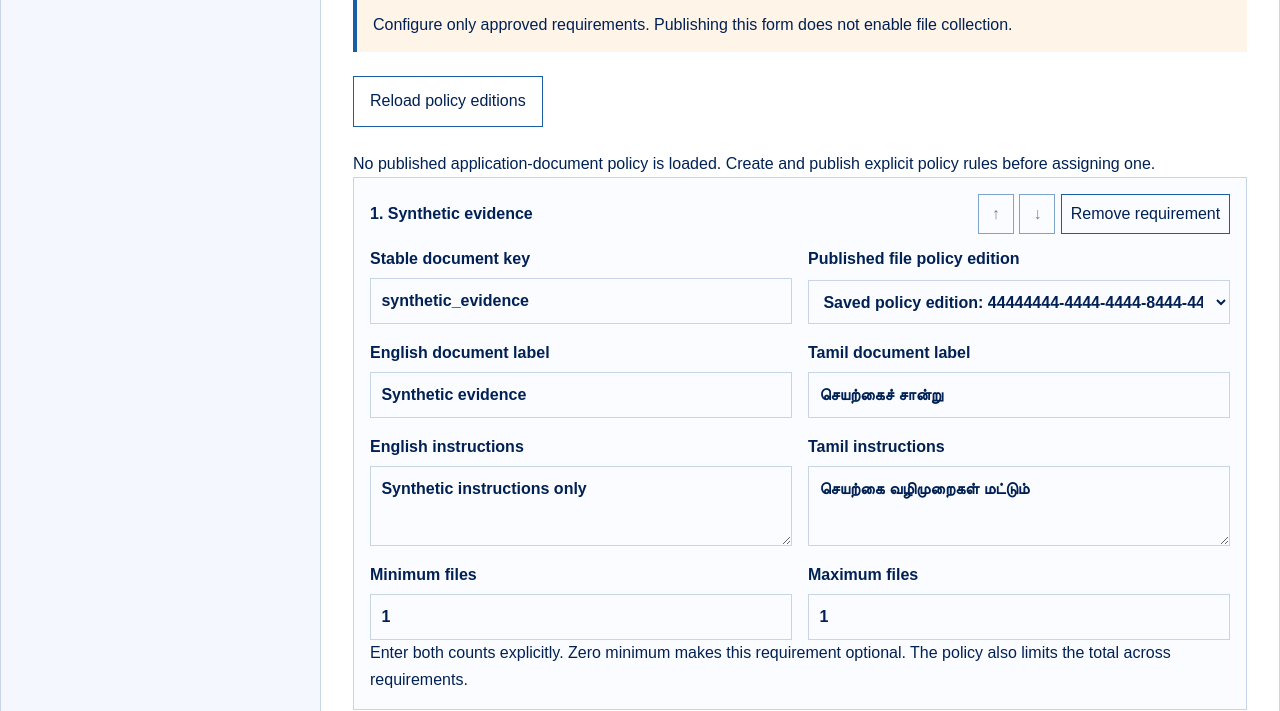
it: application definition requirements and recovery › preserves bilingual requirements through a conflict and requires saved-revision review
(page scrolled)
Replace the text in the field labelled "English document label" with "Retained local document label" at (581, 395), box x1=370 y1=372 x2=792 y2=418
(page scrolled)
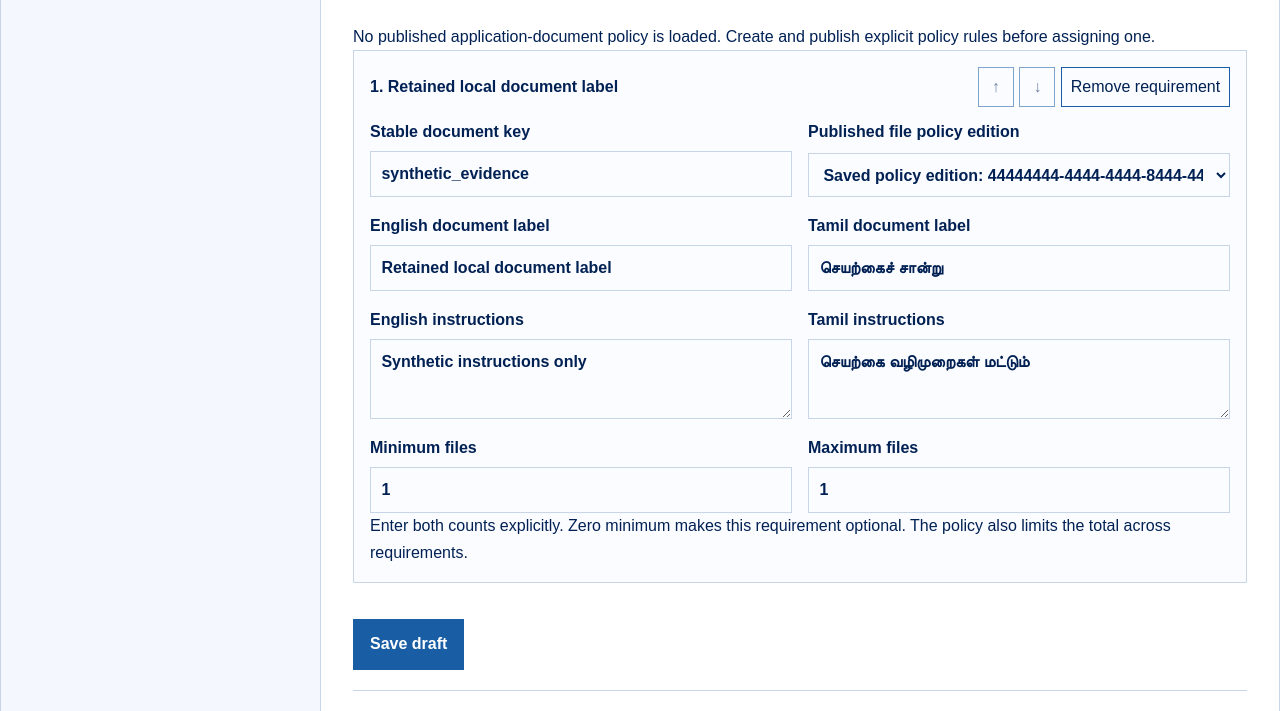
Click the button "Save draft".
click(409, 645)  # box x1=353 y1=619 x2=464 y2=670
(page scrolled)
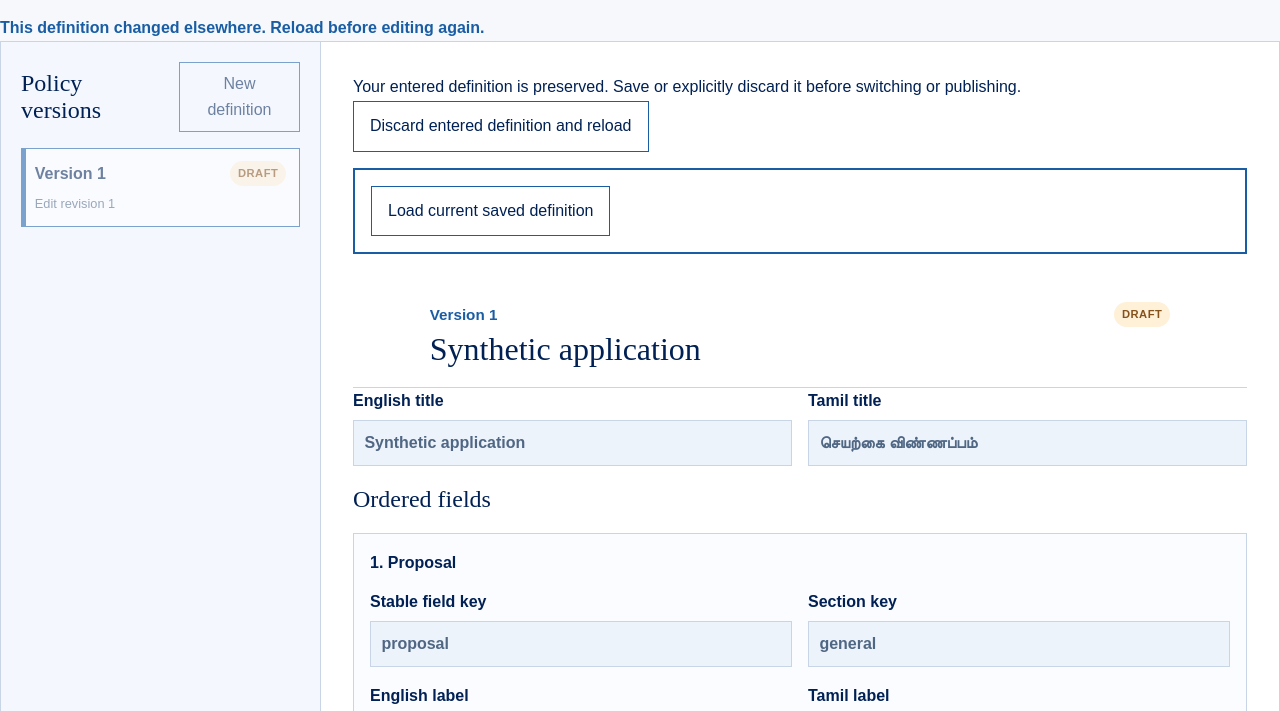
Expected: the text "This definition changed elsewhere. Reload before editing again." is shown, x1=0 y1=19 x2=484 y2=36
Click the button "Load current saved definition".
click(491, 211)  # box x1=371 y1=186 x2=610 y2=236
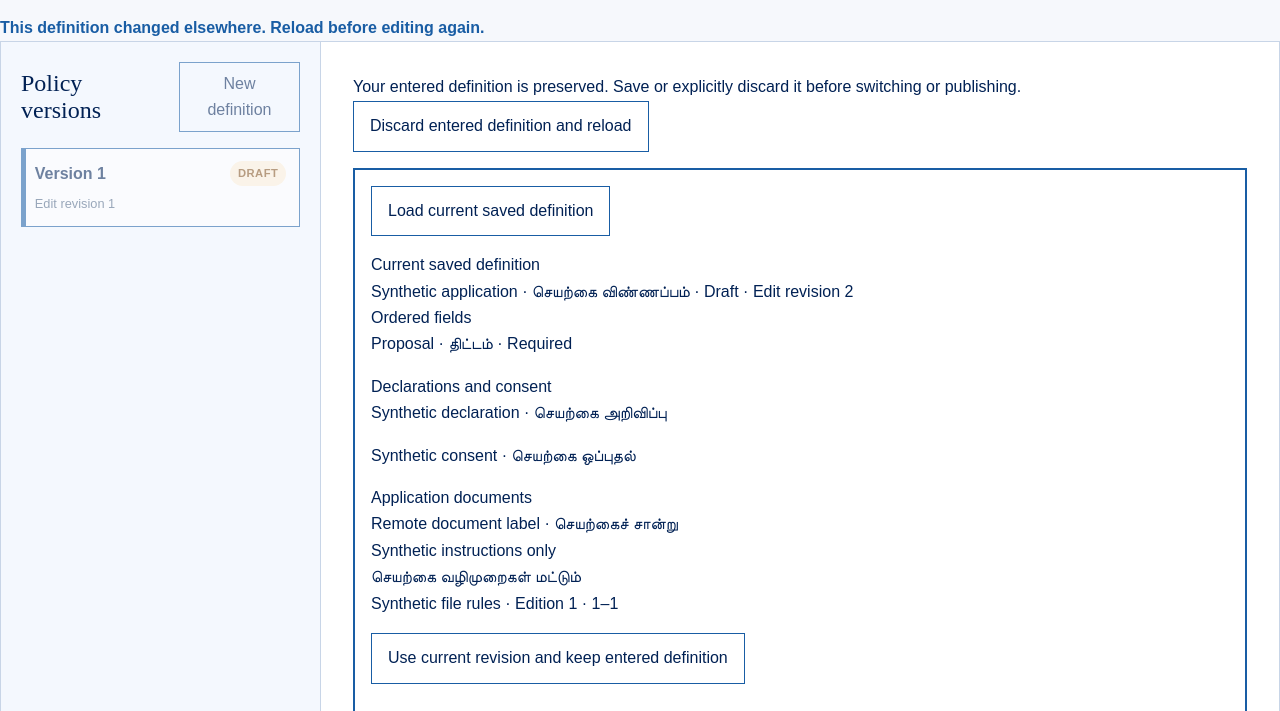
Expected: the heading "Current saved definition" is shown, x1=371 y1=256 x2=540 y2=273
Expected: the list item "Remote document label" is shown, x1=371 y1=515 x2=540 y2=532
Click the button "Use current revision and keep entered definition".
click(558, 658)  # box x1=371 y1=633 x2=745 y2=684
(page scrolled)
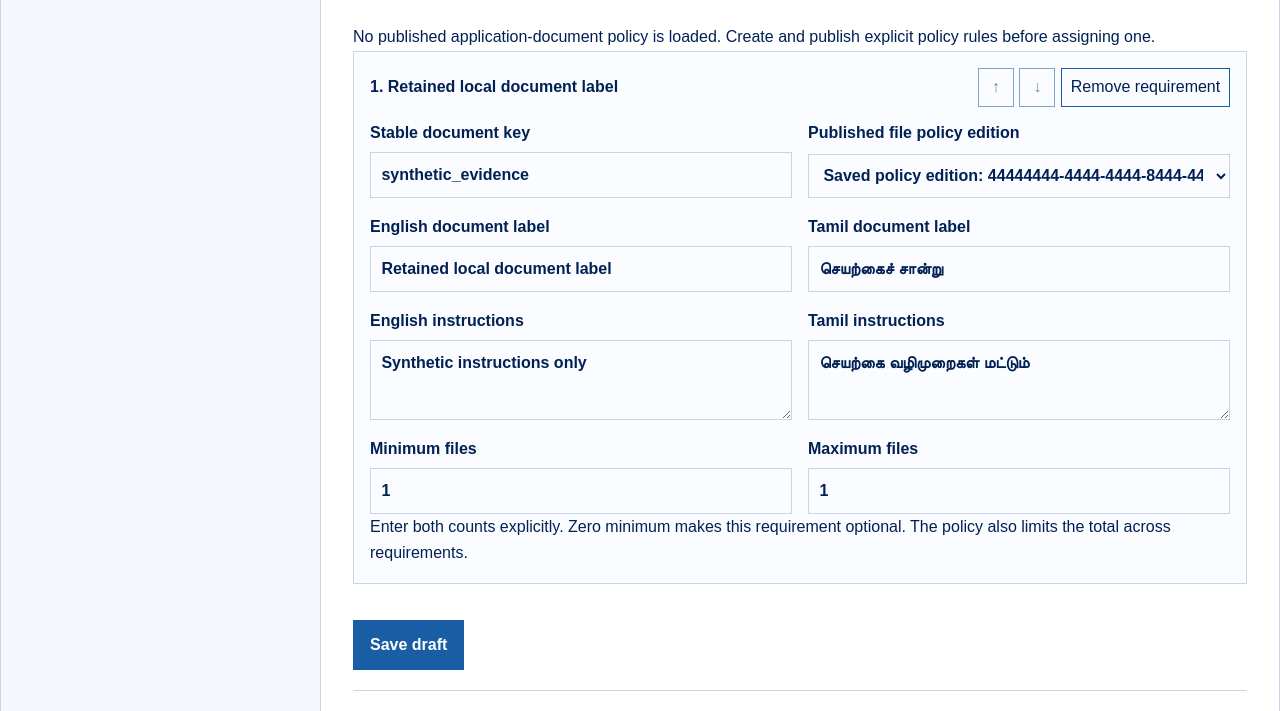
Click the button "Save draft".
click(409, 645)  # box x1=353 y1=620 x2=464 y2=670
(page scrolled)
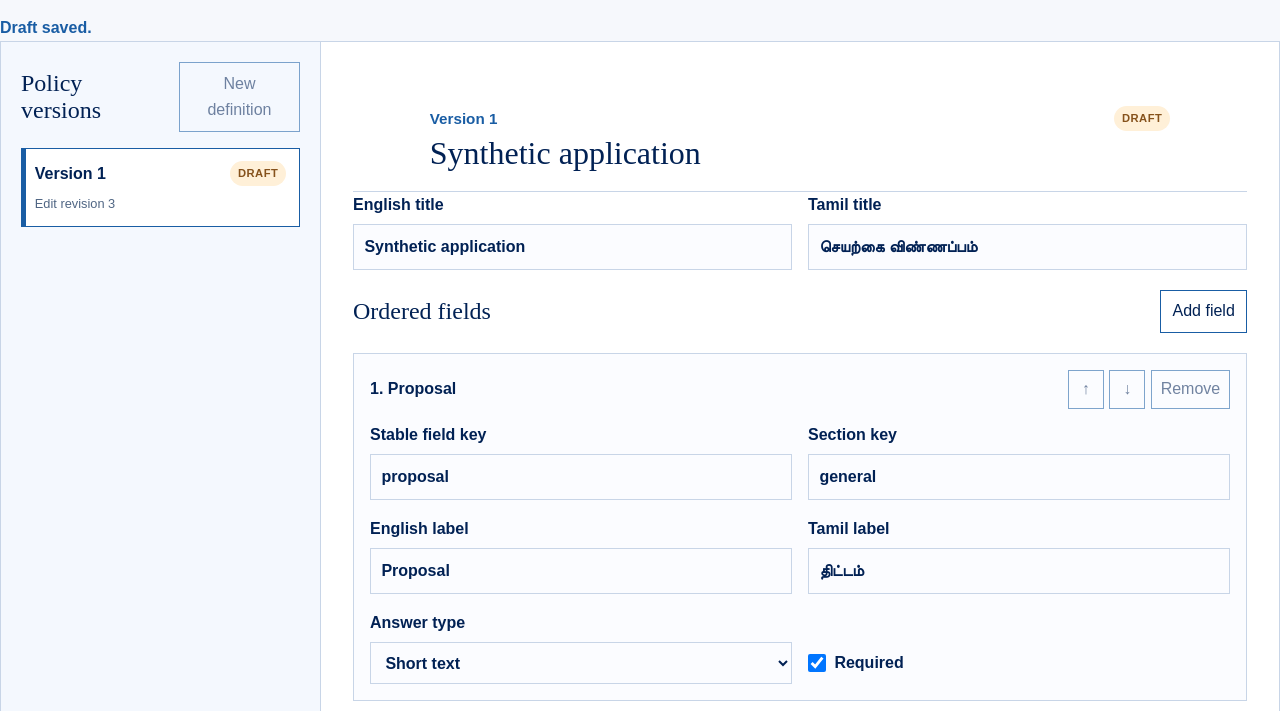
Expected: the text "Draft saved." is shown, x1=0 y1=19 x2=92 y2=36
